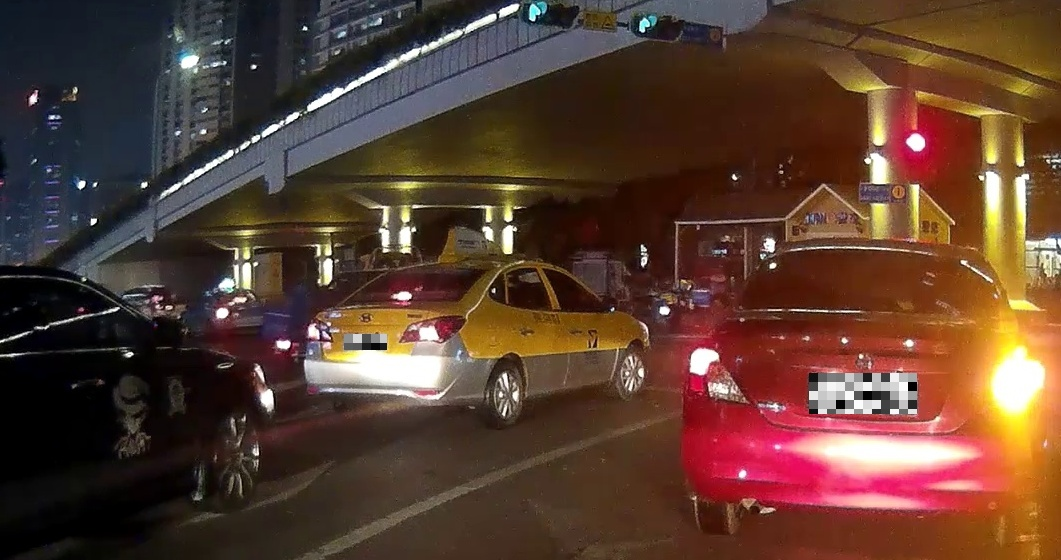L_light: (685, 345, 752, 406), (305, 317, 334, 343)
R_light: (983, 349, 1038, 412), (398, 315, 468, 344)
T_light: (844, 247, 894, 258), (389, 292, 413, 301)
night-brake: (304, 260, 498, 428)
night-right: (680, 239, 1039, 546)
plate_1: (344, 334, 387, 350)
plate_2: (809, 373, 917, 414)
